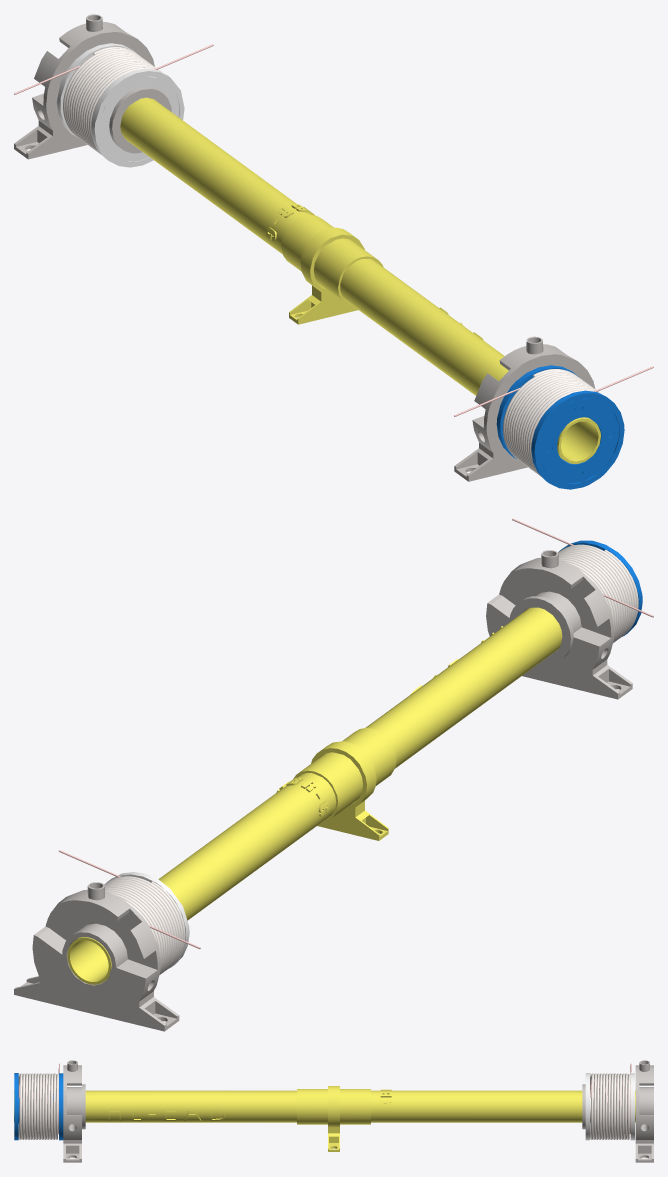
The model's file is gauss_cannon_low.glb.
3 views of the same model, one above another, from view 1: azimuth 30°, elevation 25°; view 2: azimuth 150°, elevation 25°; view 3: azimuth 270°, elevation 25° (orthographic). The views are drawn at different scales.
Visible parts, largest first — view 1: Tubo_para_Bobinas_Salida-2, Tubo_para_Bobinas_Entrada-2, mesh_6, Modulo_de_Sensores-3, Modulo_de_Sensores-4, mesh_7, mesh_6_7, mesh_7_2, Conector_para_Tubo_Final-1, Soporte_del_Tubo_Medio-2, Anillo_Final-1; view 2: Modulo_de_Sensores-3, Tubo_para_Bobinas_Entrada-2, Tubo_para_Bobinas_Salida-2, Modulo_de_Sensores-4, Conector_para_Tubo_Final-1, mesh_7_1, mesh_6_6, Soporte_del_Tubo_Medio-2, mesh_7_2, mesh_6_7, Anillo_Final-2; view 3: Tubo_para_Bobinas_Entrada-2, Tubo_para_Bobinas_Salida-2, mesh_7_2, mesh_6_7, Conector_para_Tubo_Final-1, Modulo_de_Sensores-3, Modulo_de_Sensores-4, mesh_7_1, mesh_6_6, Soporte_del_Tubo_Medio-2, mesh_7, mesh_6 (+2 smaller).
Boxes of the visible parts, x1,y1,x2,y2 form: Tubo_para_Bobinas_Salida-2: (340, 259, 600, 463); Tubo_para_Bobinas_Entrada-2: (120, 97, 314, 254); mesh_6: (496, 365, 624, 489); Modulo_de_Sensores-3: (14, 14, 154, 159); Modulo_de_Sensores-4: (454, 336, 595, 481); mesh_7: (56, 43, 184, 167); mesh_6_7: (503, 369, 602, 476); mesh_7_2: (63, 47, 162, 154); Conector_para_Tubo_Final-1: (281, 214, 383, 307); Soporte_del_Tubo_Medio-2: (289, 227, 364, 324); Anillo_Final-1: (109, 87, 171, 153); Modulo_de_Sensores-3: (14, 882, 179, 1031); Tubo_para_Bobinas_Entrada-2: (67, 773, 336, 984); Tubo_para_Bobinas_Salida-2: (365, 607, 562, 768); Modulo_de_Sensores-4: (486, 550, 632, 699); Conector_para_Tubo_Final-1: (293, 728, 396, 823); mesh_7_1: (105, 877, 185, 973); mesh_6_6: (558, 545, 638, 642); Soporte_del_Tubo_Medio-2: (311, 741, 388, 840); mesh_7_2: (104, 876, 185, 974); mesh_6_7: (558, 544, 638, 642); Anillo_Final-2: (509, 596, 573, 664); Tubo_para_Bobinas_Entrada-2: (371, 1089, 635, 1122); Tubo_para_Bobinas_Salida-2: (14, 1090, 296, 1122); mesh_7_2: (590, 1073, 629, 1139); mesh_6_7: (18, 1073, 58, 1139); Conector_para_Tubo_Final-1: (297, 1089, 370, 1124); Modulo_de_Sensores-3: (635, 1060, 653, 1162); Modulo_de_Sensores-4: (63, 1060, 81, 1162); mesh_7_1: (590, 1073, 630, 1139); mesh_6_6: (18, 1073, 58, 1139); Soporte_del_Tubo_Medio-2: (328, 1086, 339, 1151); mesh_7: (585, 1073, 634, 1140); mesh_6: (14, 1073, 63, 1140).
Bounding box in the file's own units: 0.1026 × 0.069 × 0.52.
